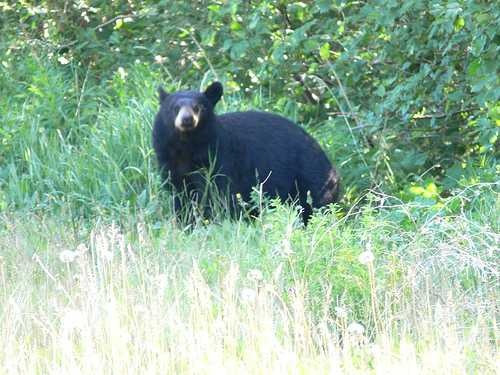bear: (129, 72, 257, 200)
